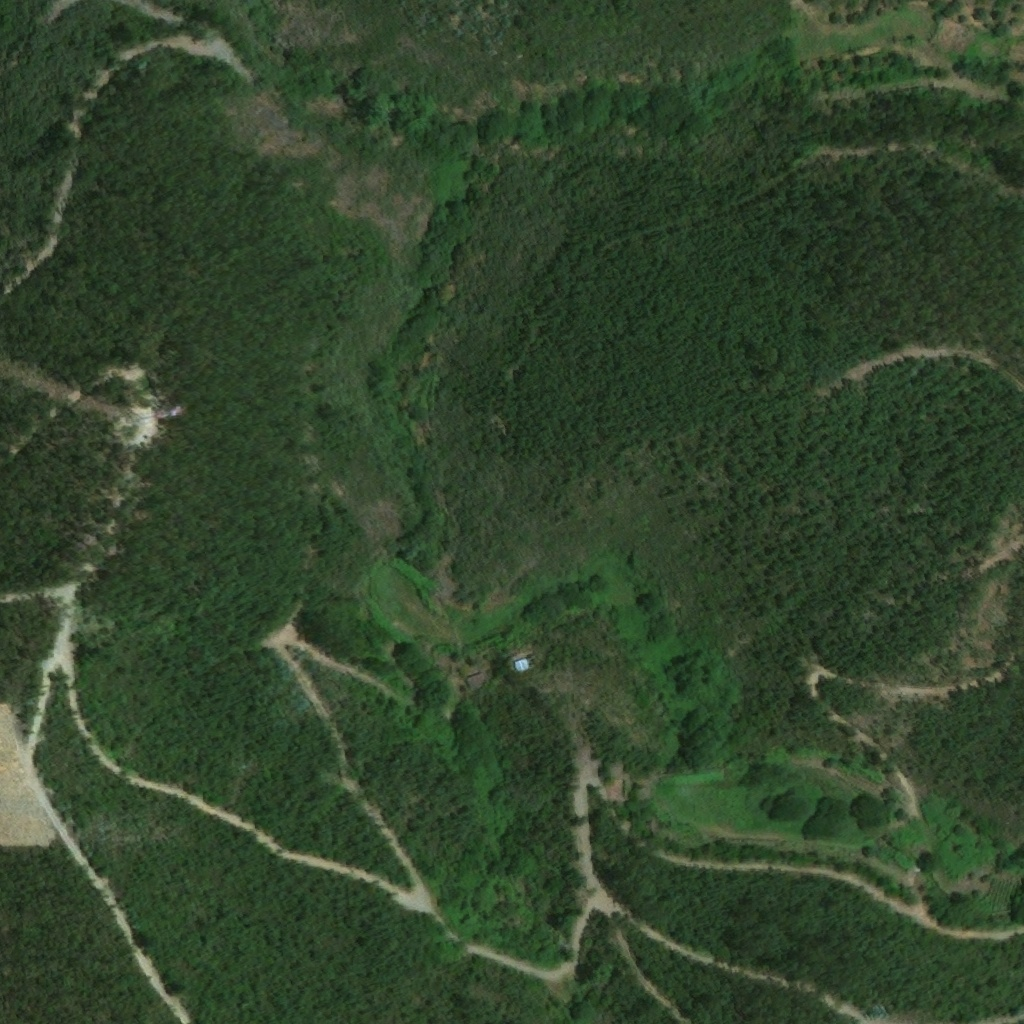0 no-damage: (461, 674, 481, 692), (510, 658, 531, 674)
